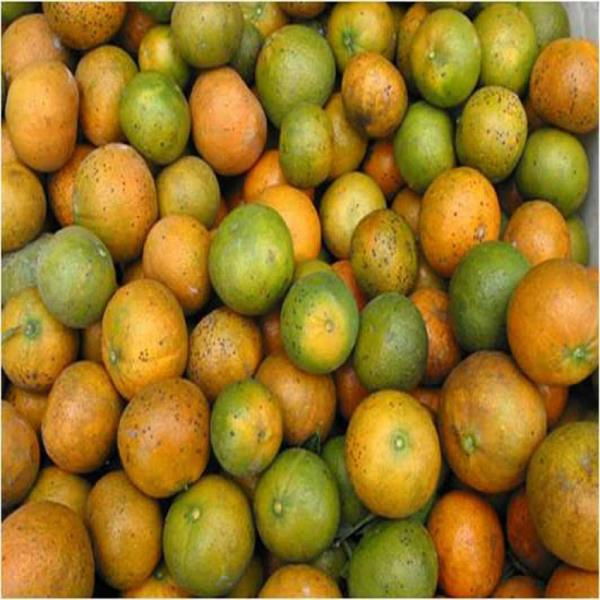Greening: (438, 353, 550, 492), (340, 390, 440, 515), (500, 258, 600, 383), (526, 423, 600, 564), (96, 280, 189, 392), (161, 478, 255, 587), (116, 378, 209, 488), (419, 162, 513, 270), (251, 449, 342, 558), (38, 359, 122, 473), (77, 471, 162, 583), (0, 503, 98, 599), (210, 204, 296, 313), (446, 241, 534, 347), (272, 269, 362, 370), (72, 143, 156, 251), (348, 287, 433, 391), (250, 23, 339, 121), (514, 124, 599, 226), (427, 490, 507, 592), (34, 225, 116, 323), (346, 202, 427, 301), (206, 377, 284, 478), (0, 288, 81, 385), (7, 58, 78, 168), (346, 520, 440, 596), (140, 213, 215, 307), (183, 305, 267, 388), (73, 43, 144, 139), (463, 0, 541, 84), (412, 8, 481, 102), (120, 70, 195, 156), (527, 36, 600, 124), (458, 84, 523, 182), (337, 52, 414, 130), (0, 228, 65, 312), (322, 2, 400, 71), (276, 97, 336, 184), (169, 0, 245, 66), (394, 104, 451, 188), (153, 155, 219, 226), (0, 159, 50, 252), (317, 88, 367, 176), (0, 400, 42, 498), (136, 23, 192, 92), (39, 0, 129, 42), (512, 0, 572, 42)
